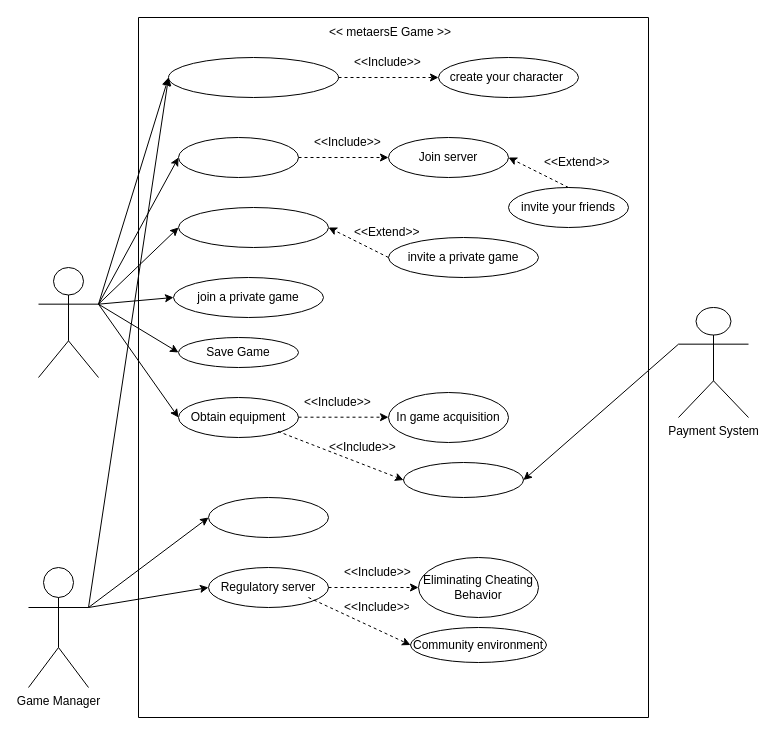
The diagram is 776 pixels wide and 735 high, and some of its shapes have lost their labels. The shapes that lost their labels are listed below. From the top down, each one's centre as x and y in pixels, then its label:
At (253,77): "Register and Login".
At (238,157): "choose server".
At (253,227): "Create a private game".
At (68,322): "User".
At (463,480): "Shop Purchase".
At (268,517): "Collect Report".
